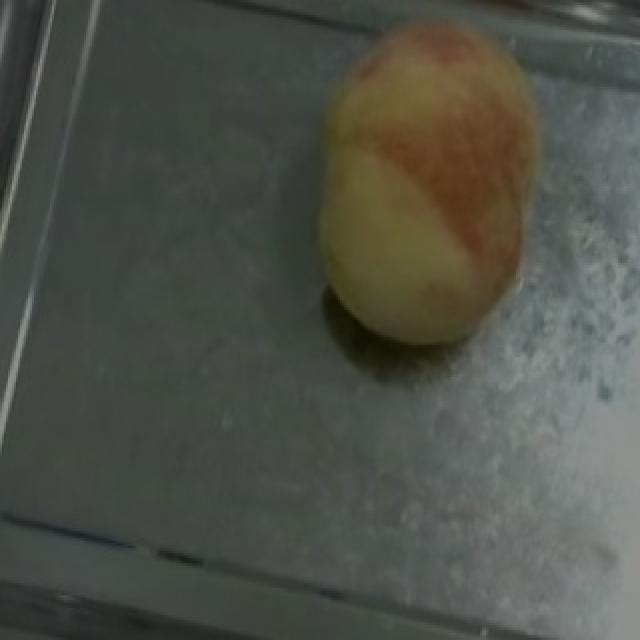Fruit: (274, 0, 586, 384)
